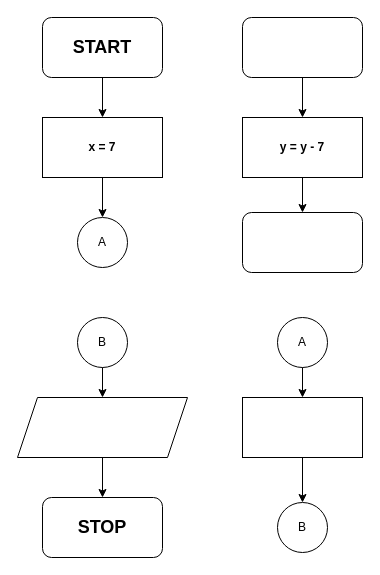
Image size: 380x575. Some labels were removed from this diagram. Here are the shapes that lost their labels. From the top down, the centre of each, then its label:
point (302, 47): count(y)
point (302, 242): return y
point (102, 427): print 7 / result
point (302, 427): result = count(x)
